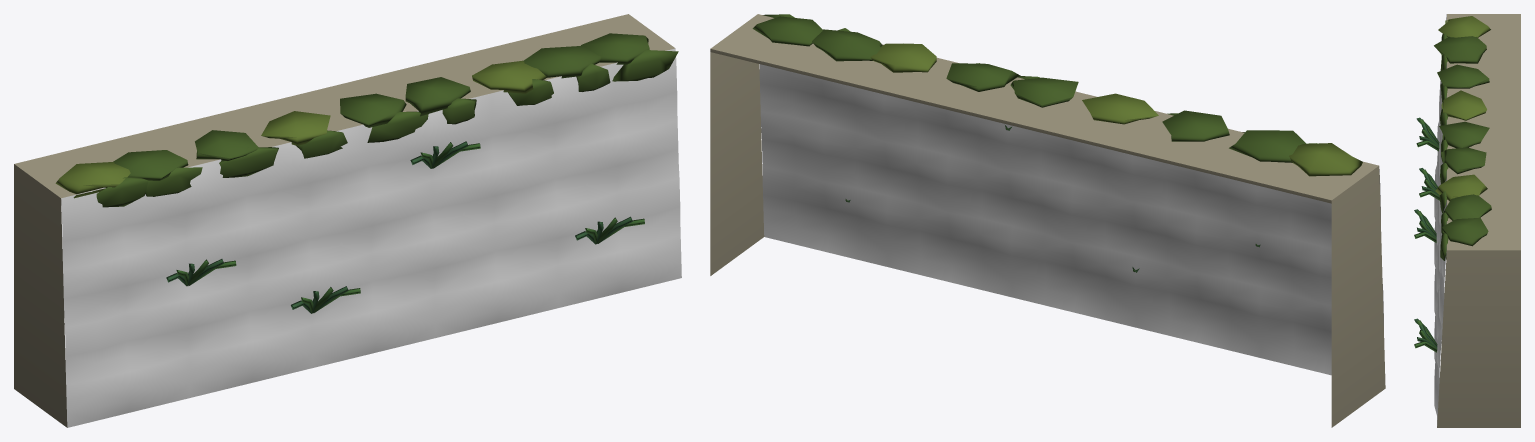
Rendered from MossWallKM.fbx.
3 views of the same model, side by side, from view 1: azimuth 30°, elevation 25°; view 2: azimuth 150°, elevation 25°; view 3: azimuth 270°, elevation 25° (orthographic). The views are drawn at different scales.
Parts seen in each view (by area): view 1: MossWallKM; view 2: MossWallKM; view 3: MossWallKM.
Boxes of the visible parts, x1,y1,x2,y2 form: MossWallKM: [14, 14, 681, 427]; MossWallKM: [710, 14, 1385, 427]; MossWallKM: [1414, 14, 1520, 427].
Bounding box in the file's own units: 4.01 × 1.46 × 0.7648.
